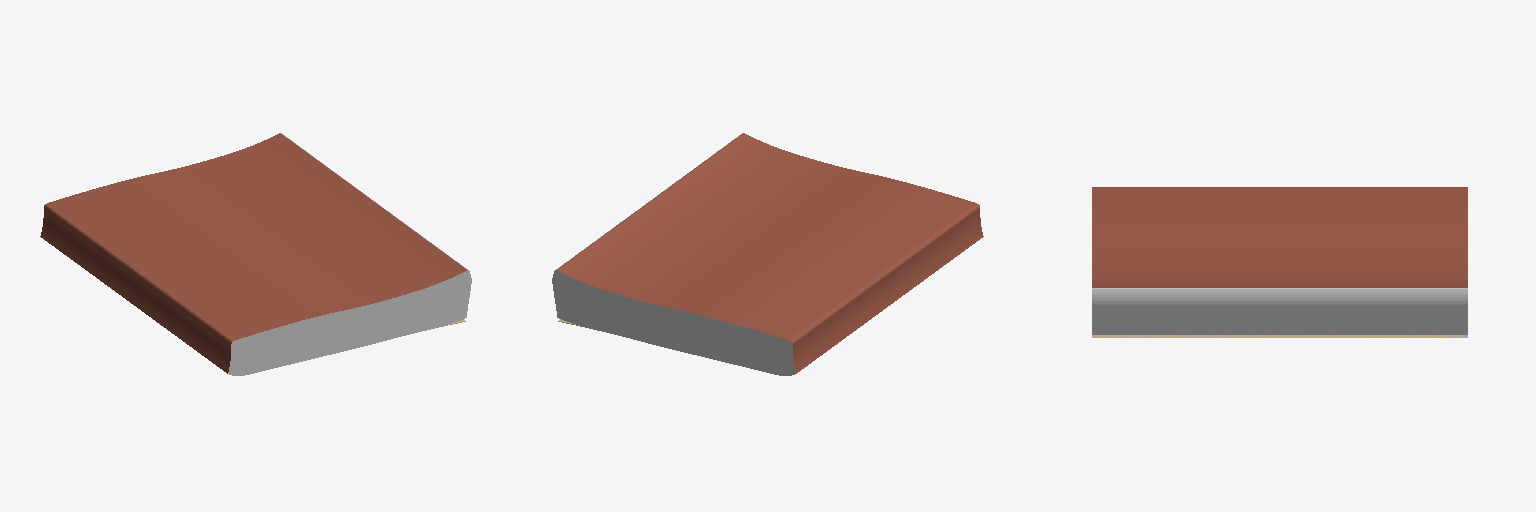
The picture shows the model from 3 angles: view 1: azimuth 30°, elevation 25°; view 2: azimuth 150°, elevation 25°; view 3: azimuth 270°, elevation 25°; orthographic projection.
Parts seen in each view (by area): view 1: SketchUp.001_ID20.002; view 2: SketchUp.001_ID20.002; view 3: SketchUp.001_ID20.002.
Part boxes in pixels (left/top/right/bottom): SketchUp.001_ID20.002: left=40, top=133, right=471, bottom=375; SketchUp.001_ID20.002: left=552, top=133, right=983, bottom=375; SketchUp.001_ID20.002: left=1092, top=187, right=1467, bottom=337.
Size of the model in its own units: 0.6 by 0.12 by 0.8.